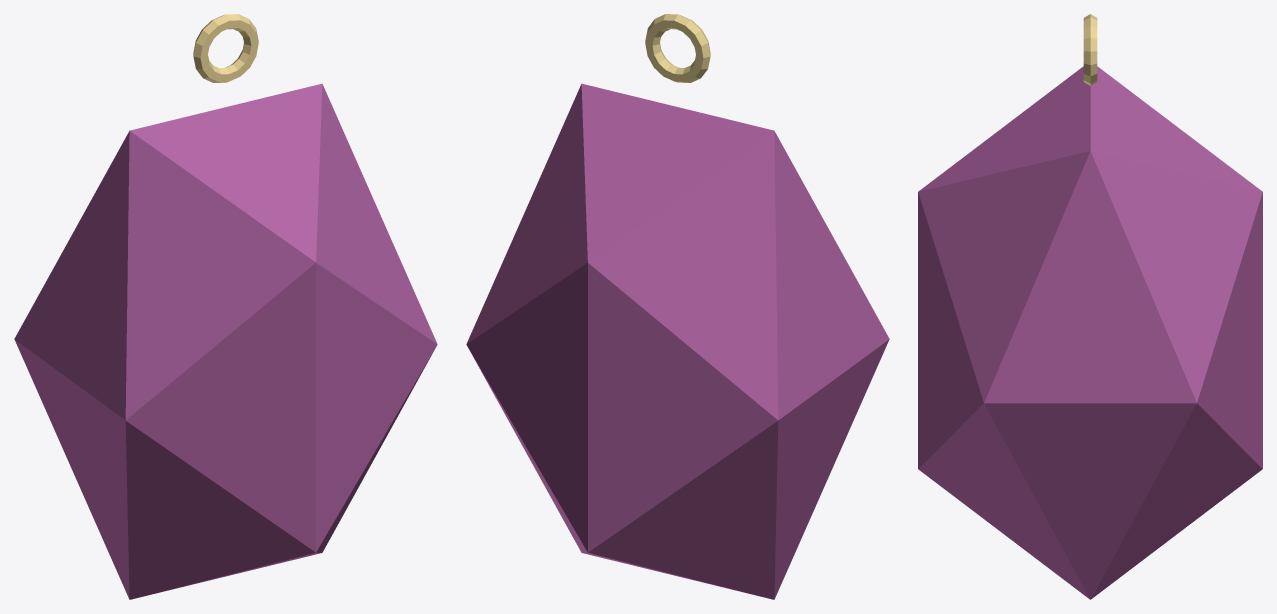
The model's file is gem-plum-3in.glb.
3 renders of one model, left to right at view 1: azimuth 30°, elevation 25°; view 2: azimuth 150°, elevation 25°; view 3: azimuth 270°, elevation 25°, orthographic. The views are drawn at different scales.
Visible parts, largest first — view 1: gem; view 2: gem; view 3: gem.
Part boxes in pixels (x1,y1,x2,y2): gem: (14, 14, 437, 599); gem: (466, 14, 889, 599); gem: (918, 14, 1262, 599).
Size of the model in its own units: 0.0443 by 0.0762 by 0.0443.
